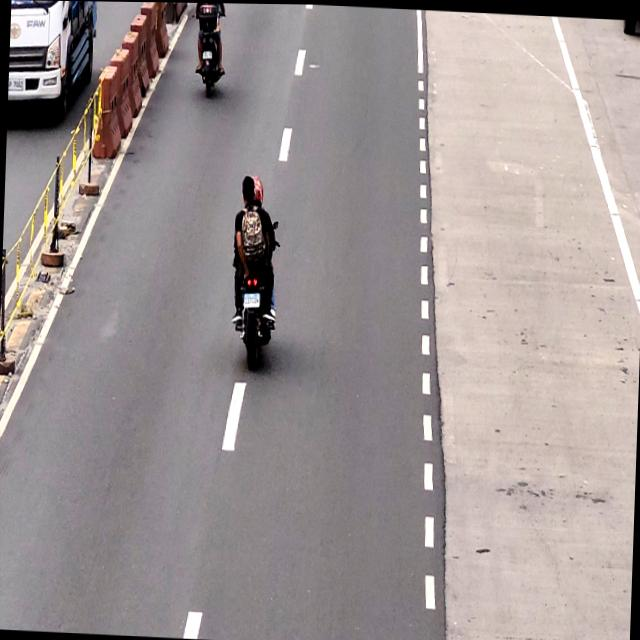License-Plate: (242, 292, 260, 309)
Motorcycle: (223, 168, 282, 374), (189, 2, 228, 99)
